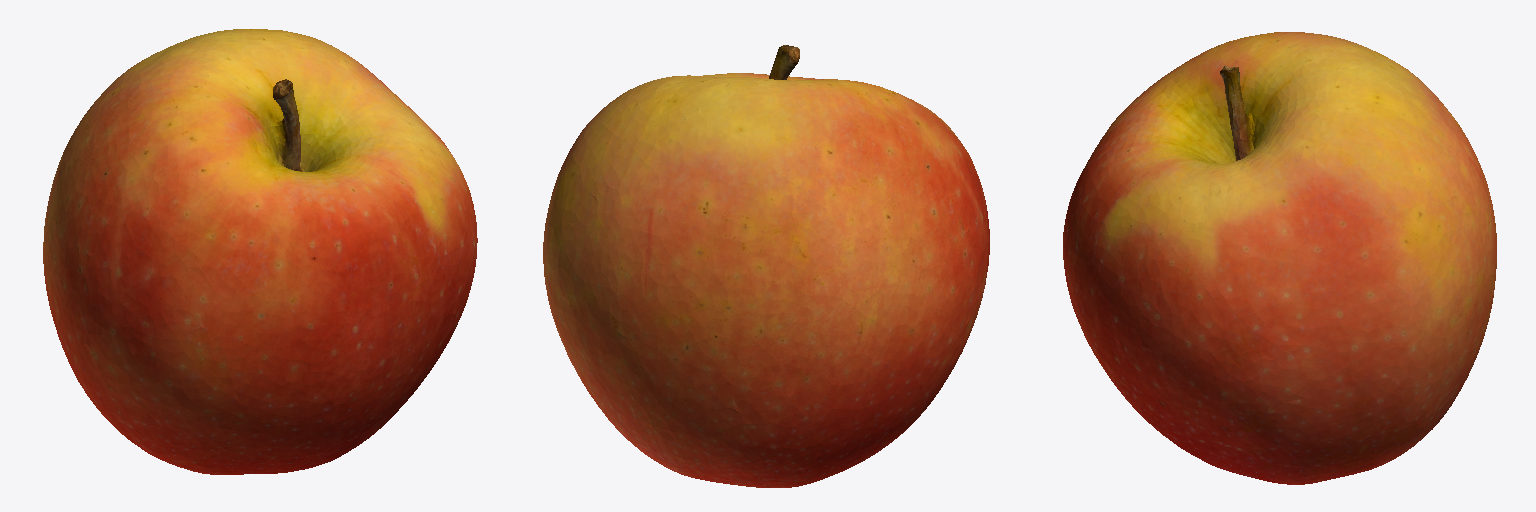
The picture shows the model from 3 angles: view 1: azimuth 30°, elevation 25°; view 2: azimuth 150°, elevation 25°; view 3: azimuth 270°, elevation 25°; orthographic projection.
Visible parts, largest first — view 1: 3DApple002_SQ-1K-JPG; view 2: 3DApple002_SQ-1K-JPG; view 3: 3DApple002_SQ-1K-JPG.
Boxes of the visible parts, x1,y1,x2,y2 form: 3DApple002_SQ-1K-JPG: [43, 29, 477, 474]; 3DApple002_SQ-1K-JPG: [543, 45, 989, 487]; 3DApple002_SQ-1K-JPG: [1063, 32, 1496, 484].
Bounding box in the file's own units: 1.28 × 1.24 × 1.27.
1 materials, 1 textured.